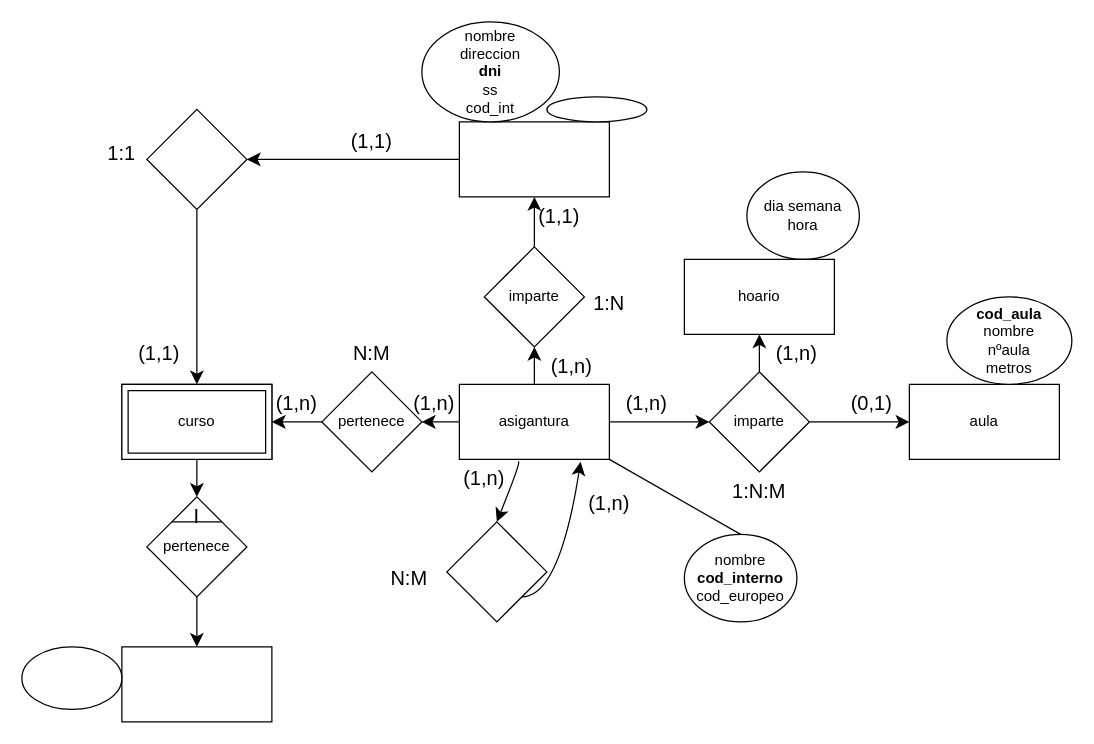
The diagram is 1094 pixels wide and 744 high, and some of its shapes have lost their labels. The centre of each missing label's shape, as x and y in pixels:
antigüedad: [596,109]
ciclo: [196,684]
cod_ciclo tipo: [71,677]
es tutor: [196,158]
profesor: [533,159]
requiere aprobar: [496,571]
